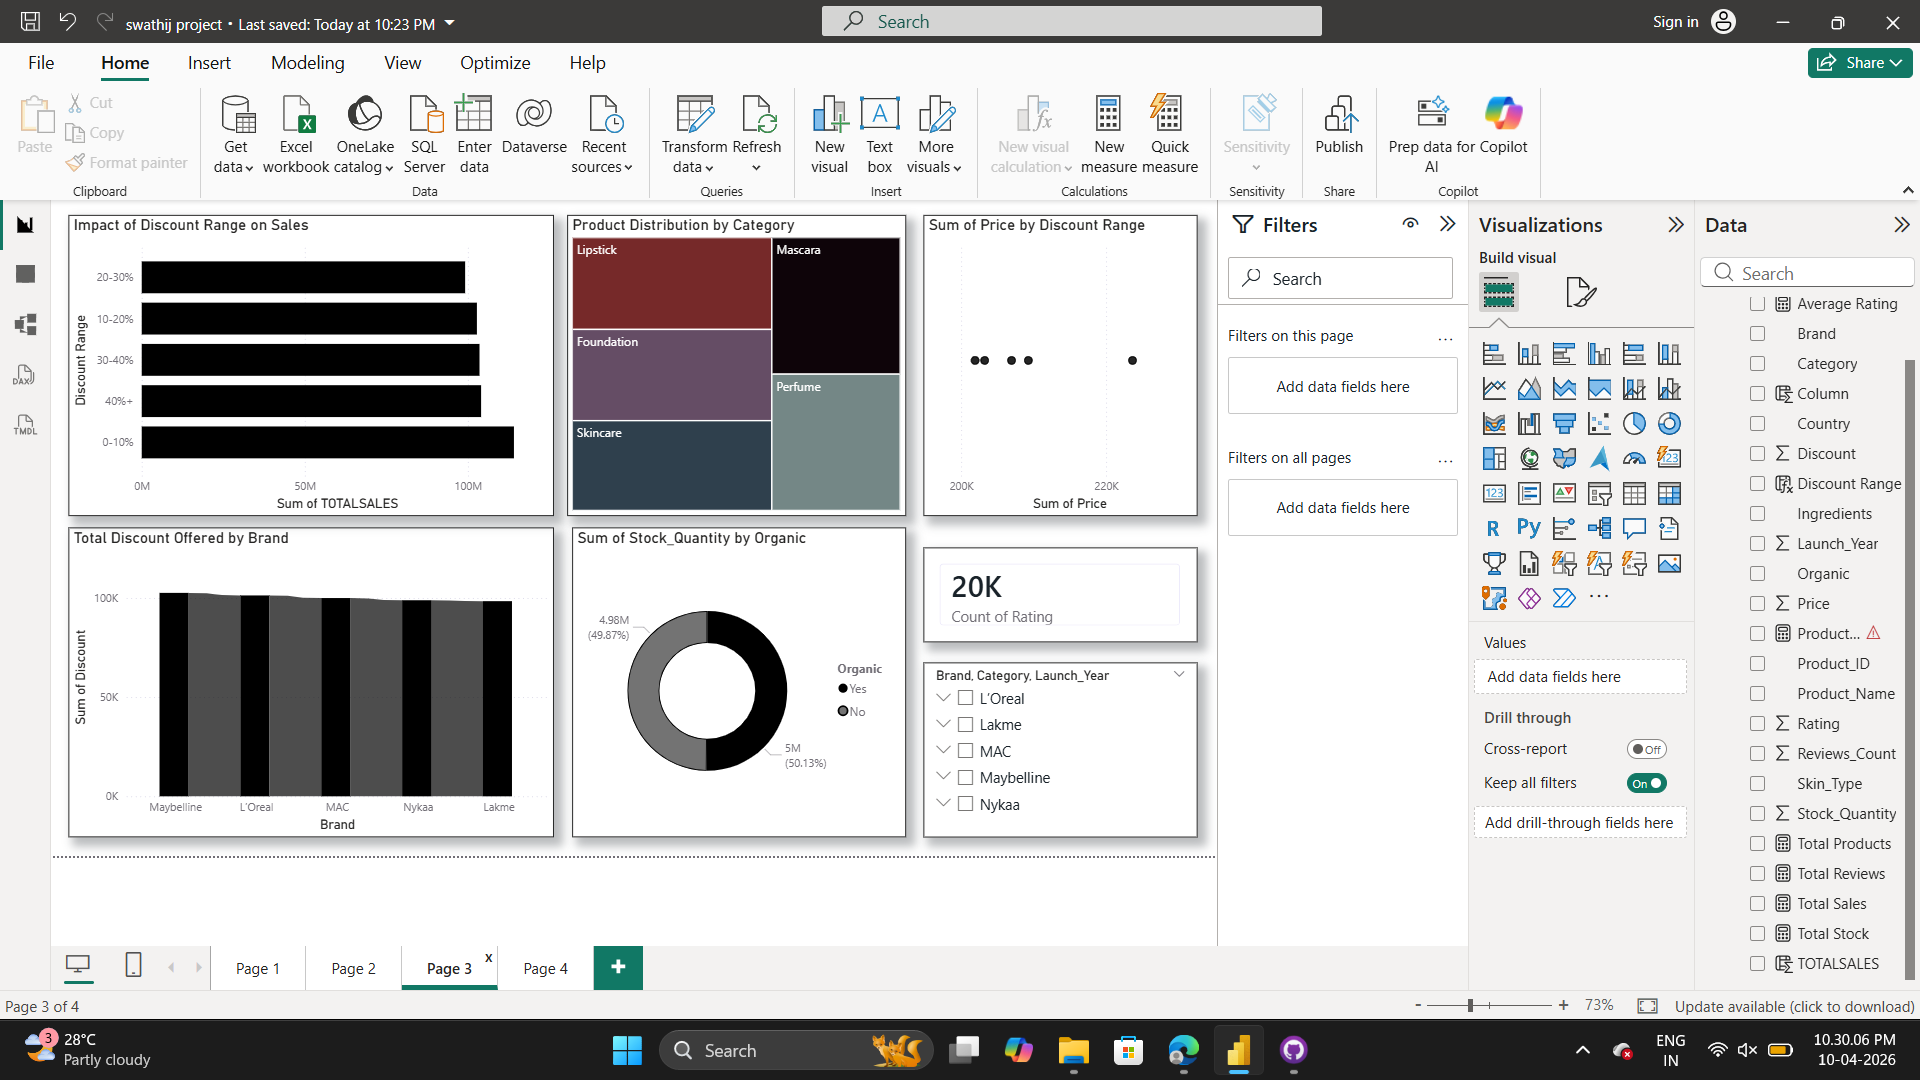

Layout of this report page (visuals, bound fields, positions):
{"tool":"powerbi","page":{"name":"Page 3","canvas":[1280,720],"ordinal":2},"visuals":[{"type":"treemap","title":"Product Distribution by Category","fields":{"Group":["cosmetics_dataset_20000-1 (1).Category"],"Values":["Sum(cosmetics_dataset_20000-1 (1).Stock_Quantity)"]},"box":[566.7,16.5,371.9,330.7],"z":0},{"type":"ribbonChart","title":"Total Discount Offered by Brand","fields":{"Category":["cosmetics_dataset_20000-1 (1).Brand"],"Y":["Sum(cosmetics_dataset_20000-1 (1).Discount)"]},"box":[19.2,359.5,532.4,340.3],"z":1000},{"type":"donutChart","fields":{"Category":["cosmetics_dataset_20000-1 (1).Organic"],"Y":["Sum(cosmetics_dataset_20000-1 (1).Stock_Quantity)"]},"box":[572.2,359.5,366.4,340.3],"z":2000},{"type":"clusteredBarChart","title":"Impact of Discount Range on Sales","fields":{"Category":["cosmetics_dataset_20000-1 (1).Discount Range"],"Y":["Sum(cosmetics_dataset_20000-1 (1).TOTALSALES)"]},"box":[19.2,16.5,532.4,330.7],"z":3000},{"type":"slicer","fields":{"Values":["cosmetics_dataset_20000-1 (1).Brand","cosmetics_dataset_20000-1 (1).Category","cosmetics_dataset_20000-1 (1).Launch_Year"]},"box":[957.8,507.7,300.5,192.1],"z":4000},{"type":"scatterChart","fields":{"Category":["cosmetics_dataset_20000-1 (1).Discount Range"],"X":["Sum(cosmetics_dataset_20000-1 (1).Price)"]},"box":[957.8,16.5,300.5,330.7],"z":5000},{"type":"cardVisual","fields":{"Data":["CountNonNull(cosmetics_dataset_20000-1 (1).Rating)"]},"box":[957.8,381.5,300.5,104.3],"z":6000}]}

Visuals, with their boxes on the page's 1280x720 design canvas (x1, y1, x2, y2). These are canvas units, not pixel positions in the 1920x1080 screenshot, which may show the page scaled, cropped or inside an application window:
"Product Distribution by Category" treemap: bbox=(567, 16, 939, 347)
"Total Discount Offered by Brand" ribbonChart: bbox=(19, 360, 552, 700)
donutChart - cosmetics_dataset_20000-1 (1).Organic x Sum(cosmetics_dataset_20000-1 (1).Stock_Quantity): bbox=(572, 360, 939, 700)
"Impact of Discount Range on Sales" clusteredBarChart: bbox=(19, 16, 552, 347)
slicer - cosmetics_dataset_20000-1 (1).Brand x cosmetics_dataset_20000-1 (1).Category: bbox=(958, 508, 1258, 700)
scatterChart - cosmetics_dataset_20000-1 (1).Discount Range x Sum(cosmetics_dataset_20000-1 (1).Price): bbox=(958, 16, 1258, 347)
cardVisual - CountNonNull(cosmetics_dataset_20000-1 (1).Rating): bbox=(958, 382, 1258, 486)
